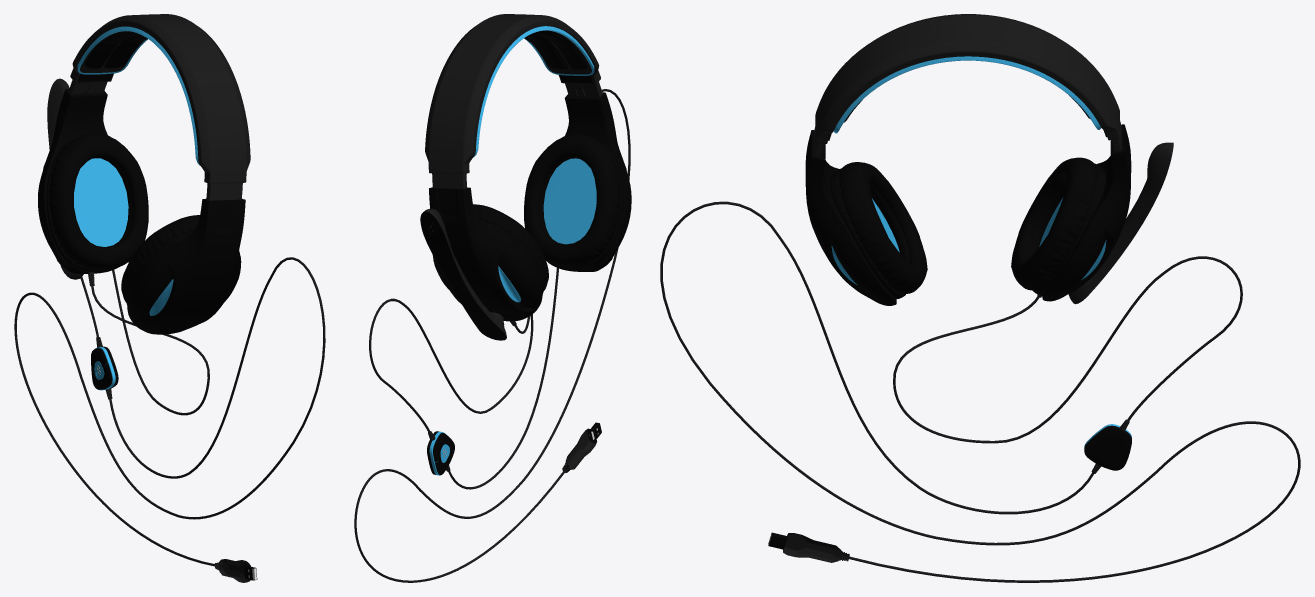
3 renders of one model, left to right at view 1: azimuth 30°, elevation 25°; view 2: azimuth 150°, elevation 25°; view 3: azimuth 270°, elevation 25°, orthographic. The views are drawn at different scales.
Visible parts, largest first — view 1: Wishbone, Right hear01, Left hear02, Whire, Object001, Left hear01, Right hear02, Volume control, Microphone, USB001; view 2: Wishbone, Left hear01, Right hear02, Whire, Object002, Right hear01, Microphone, Left hear02, Volume control, USB001; view 3: Wishbone, Whire, Right hear02, Left hear02, Left hear01, Right hear01, Microphone, Volume control, USB001.
Boxes of the visible parts, left/top/right/bottom form: Wishbone: left=69, top=14, right=250, bottom=200; Right hear01: left=127, top=199, right=245, bottom=334; Left hear02: left=46, top=133, right=148, bottom=272; Whire: left=14, top=257, right=325, bottom=566; Object001: left=74, top=158, right=128, bottom=246; Left hear01: left=38, top=89, right=119, bottom=273; Right hear02: left=121, top=215, right=199, bottom=304; Volume control: left=91, top=337, right=118, bottom=399; Microphone: left=47, top=78, right=83, bottom=279; USB001: left=214, top=559, right=257, bottom=582; Wishbone: left=425, top=14, right=602, bottom=188; Left hear01: left=429, top=187, right=542, bottom=321; Right hear02: left=524, top=134, right=623, bottom=269; Whire: left=354, top=89, right=630, bottom=582; Object002: left=543, top=158, right=596, bottom=244; Right hear01: left=548, top=92, right=631, bottom=271; Microphone: left=420, top=208, right=506, bottom=340; Left hear02: left=473, top=204, right=548, bottom=293; Volume control: left=427, top=431, right=454, bottom=475; USB001: left=562, top=422, right=601, bottom=472; Wishbone: left=814, top=14, right=1121, bottom=157; Whire: left=660, top=201, right=1300, bottom=582; Right hear02: left=830, top=162, right=927, bottom=298; Left hear02: left=1011, top=157, right=1106, bottom=295; Left hear01: left=1042, top=124, right=1131, bottom=301; Right hear01: left=805, top=130, right=896, bottom=305; Microphone: left=1068, top=142, right=1173, bottom=304; Volume control: left=1084, top=419, right=1131, bottom=473; USB001: left=768, top=532, right=849, bottom=562.
Size of the model in its own units: 0.1176 by 0.5239 by 0.5359.
